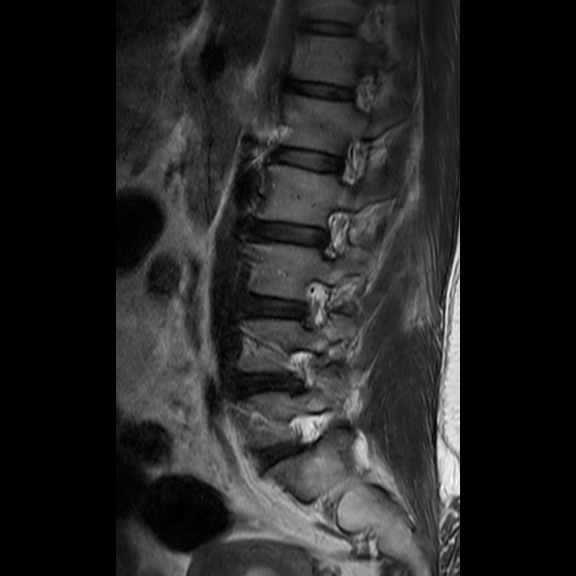RFS0: (290, 270, 336, 336), (310, 201, 354, 268), (330, 126, 369, 196)
